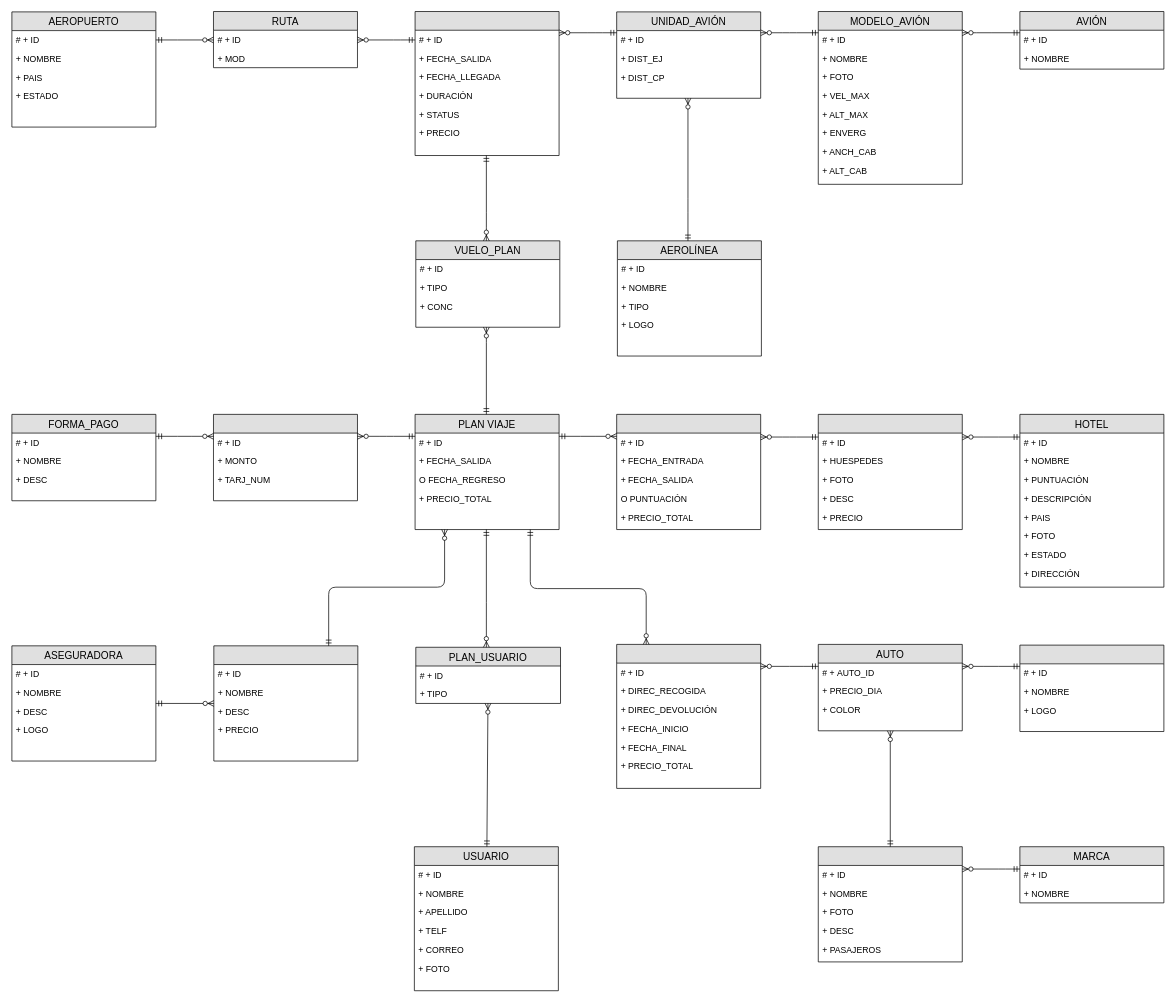
The diagram is 1176 pixels wide and 1002 high, and some of its shapes have lost their labels. Here are the shapes that lost their labels. From the top down, the box of each, then its label:
(414, 11, 559, 156): VUELO
(213, 414, 357, 501): REPORTE_PAGO
(616, 414, 761, 530): RESERVA_HOTEL
(818, 414, 962, 530): HABITACIÓN
(213, 645, 358, 761): SEGURO
(1019, 644, 1164, 732): ALQUILER_SP
(616, 644, 761, 788): ALQUILER_AUTO
(818, 846, 962, 962): MODELO_AUTO
